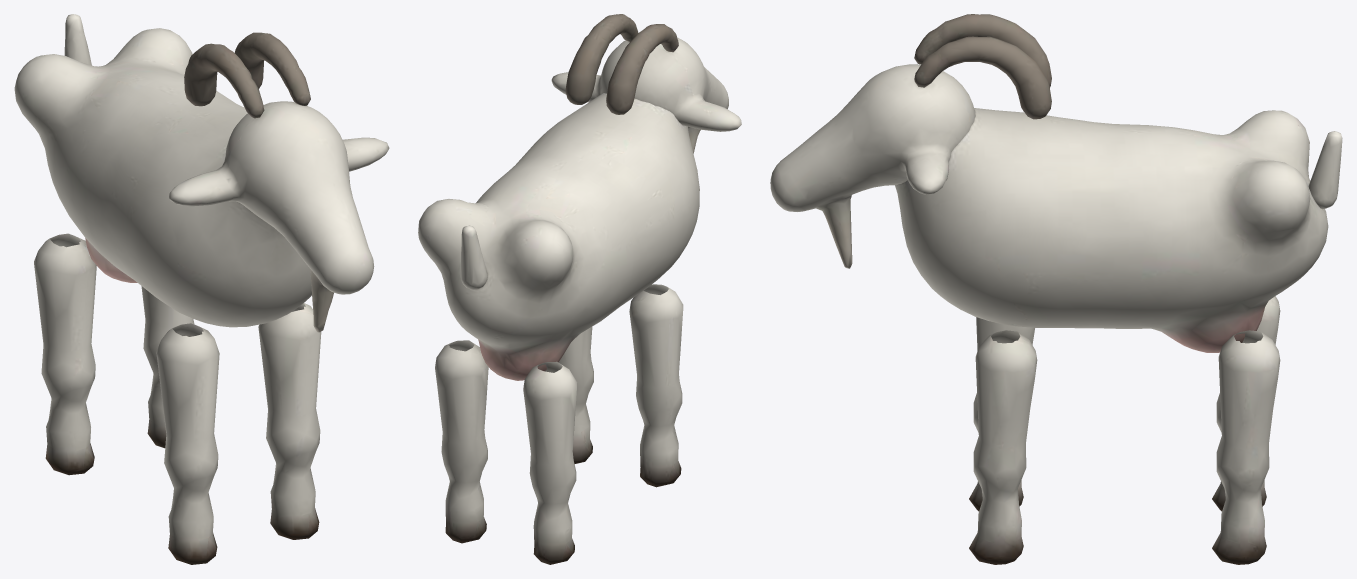
Rendered from animal_goat.glb.
3 renders of one model, left to right at view 1: azimuth 30°, elevation 25°; view 2: azimuth 150°, elevation 25°; view 3: azimuth 270°, elevation 25°, orthographic. The views are drawn at different scales.
Parts seen in each view (by area): view 1: animal_goat, head, leg0, leg2, leg1, leg3, tail; view 2: animal_goat, head, leg0, leg2, leg3, leg1, tail; view 3: animal_goat, head, leg1, leg3, tail, leg0, leg2.
Part boxes in pixels (bbox=[...]): animal_goat: bbox=[14, 28, 311, 327]; head: bbox=[169, 32, 389, 332]; leg0: bbox=[156, 323, 219, 564]; leg2: bbox=[34, 233, 96, 475]; leg1: bbox=[258, 303, 321, 539]; leg3: bbox=[141, 286, 194, 448]; tail: bbox=[64, 14, 91, 65]; animal_goat: bbox=[418, 93, 699, 380]; head: bbox=[551, 14, 741, 153]; leg0: bbox=[629, 284, 683, 487]; leg2: bbox=[523, 361, 577, 564]; leg3: bbox=[435, 340, 488, 543]; leg1: bbox=[558, 327, 593, 463]; tail: bbox=[460, 225, 487, 289]; animal_goat: bbox=[895, 108, 1328, 352]; head: bbox=[770, 14, 1051, 268]; leg1: bbox=[969, 330, 1037, 564]; leg3: bbox=[1212, 330, 1280, 564]; tail: bbox=[1308, 131, 1342, 208]; leg0: bbox=[969, 317, 1034, 511]; leg2: bbox=[1212, 296, 1280, 511].
Size of the model in its own units: 0.2047 by 0.4618 by 0.4708.
Materials: 1 (1 with a texture image).
